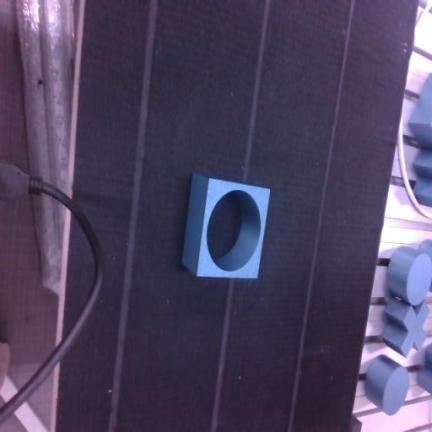hole: (183, 173, 269, 278)
